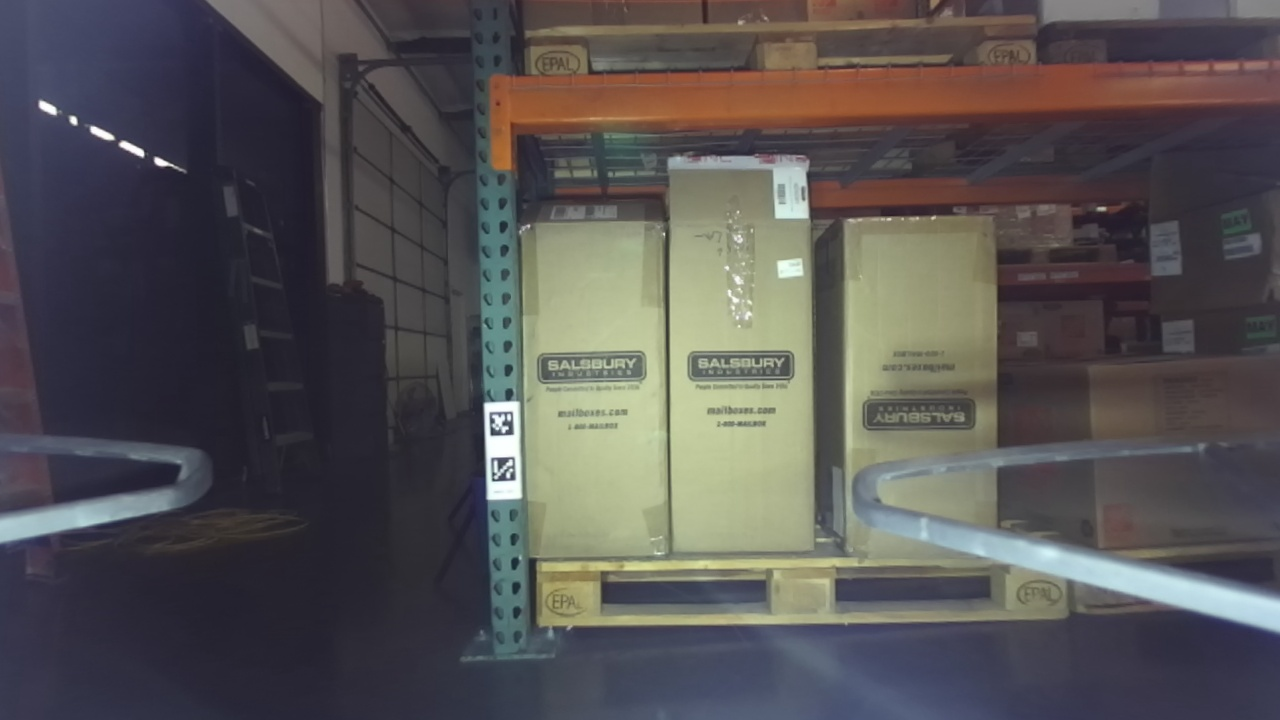box: (800, 205, 1020, 577), (657, 148, 831, 593), (505, 198, 683, 582), (1002, 349, 1280, 559)
